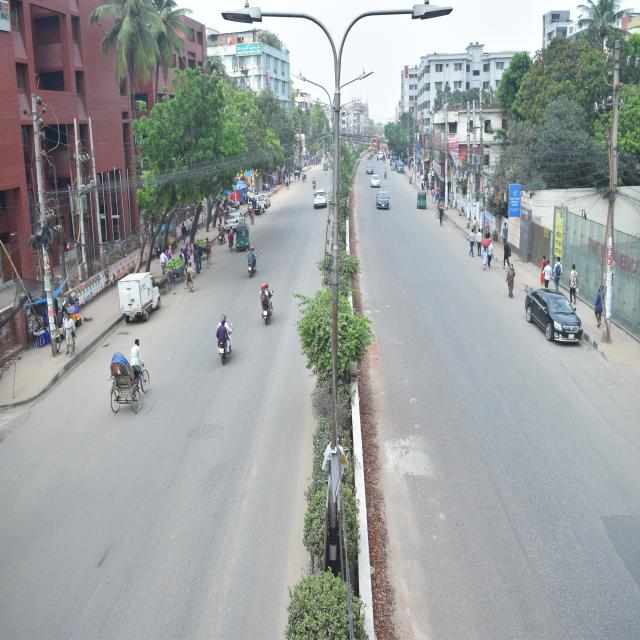car: (516, 263, 600, 351), (216, 205, 250, 236), (304, 184, 332, 212), (250, 186, 272, 217), (372, 191, 394, 215), (364, 158, 376, 180), (371, 173, 381, 193)
motorbike: (202, 303, 249, 373), (256, 272, 282, 329), (246, 241, 262, 277), (308, 172, 318, 193)
pickup-van: (100, 245, 162, 332)
